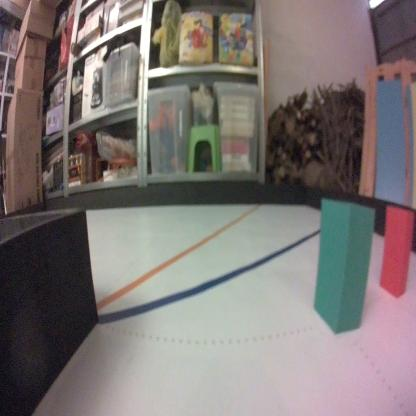green: (310, 195, 376, 337)
red: (378, 202, 415, 300)
